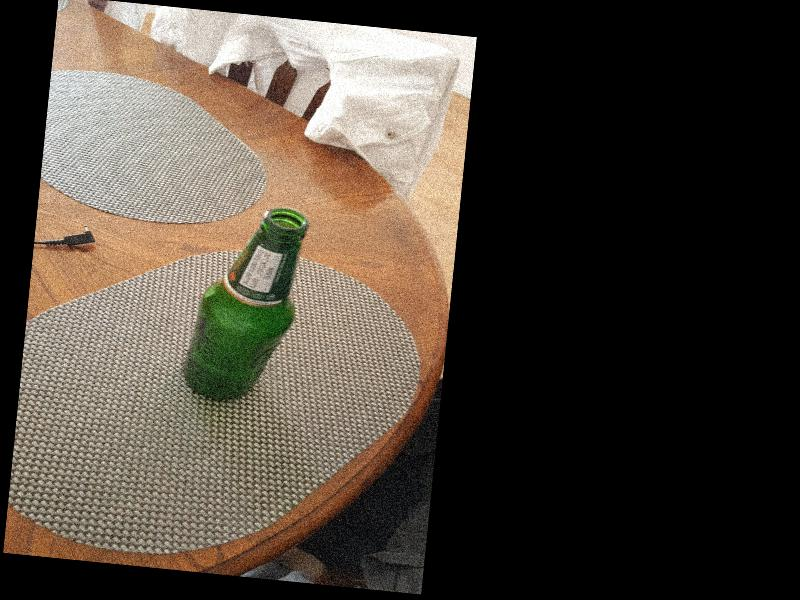Beer: (179, 202, 301, 406)
